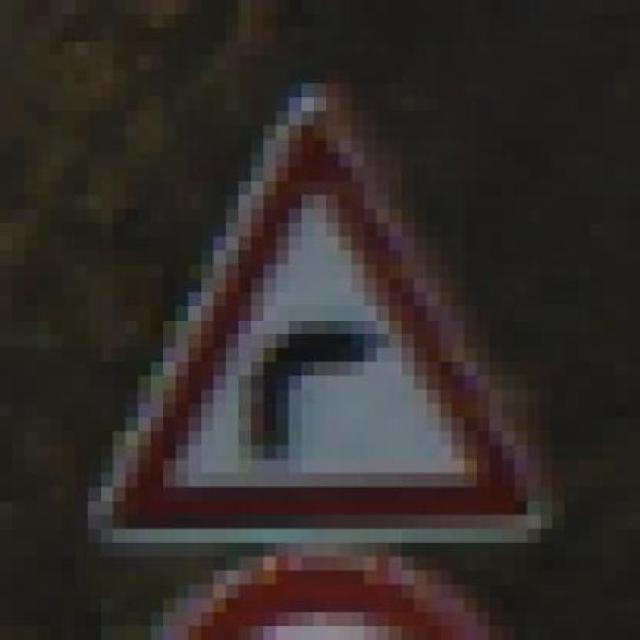Dangerous Rright Curve Ahead: (62, 69, 566, 557)
